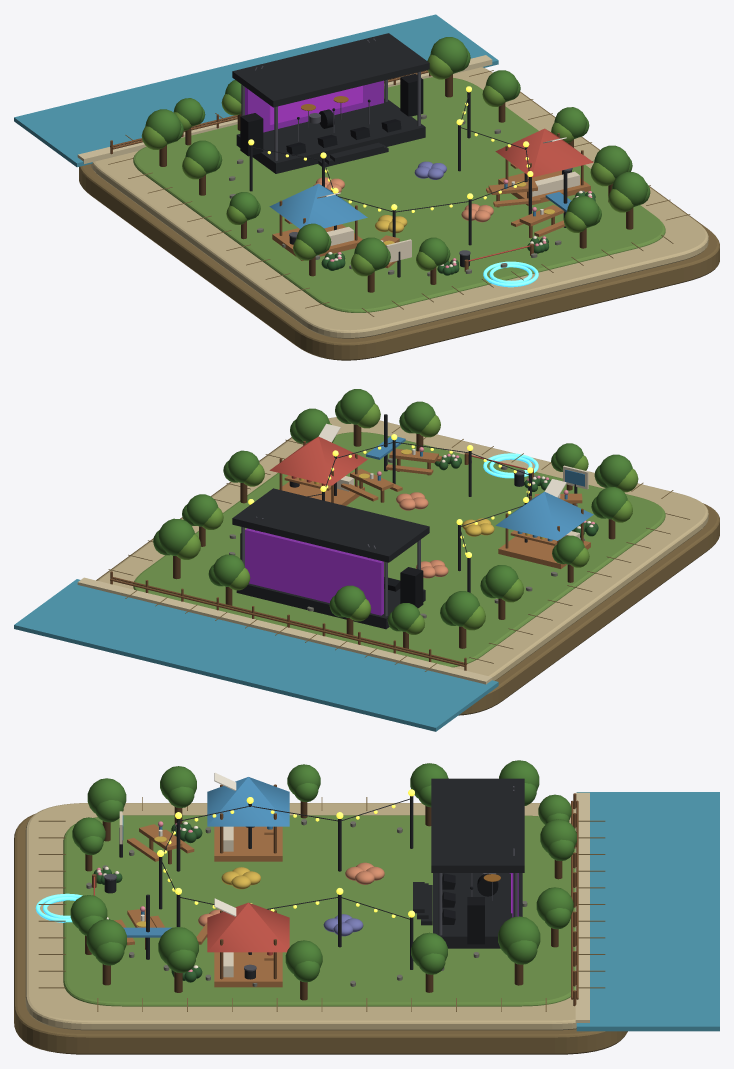
Rendered from festival-experience-map.glb.
3 views of the same model, one above another, from view 1: azimuth 30°, elevation 25°; view 2: azimuth 150°, elevation 25°; view 3: azimuth 270°, elevation 25° (orthographic). The views are drawn at different scales.
Parts seen in each view (by area): view 1: Festival_Lawn, Promenade, Island_Base, River, StageRoof, StageDeck, Red_Experience_Tent_Roof, Blue_Experience_Tent_Roof, StageBack, Stage_LED, River_Bank, Tree_4_CrownA (+17 smaller); view 2: Festival_Lawn, River, Promenade, StageRoof, StageBack, Island_Base, River_Bank, Blue_Experience_Tent_Roof, Red_Experience_Tent_Roof, StageDeck, Blue_Experience_Tent_Platform, Rail_-14.25 (+18 smaller); view 3: Festival_Lawn, River, Promenade, Island_Base, StageRoof, StageDeck, Red_Experience_Tent_Roof, Blue_Experience_Tent_Roof, River_Bank, Blue_Experience_Tent_Platform, Red_Experience_Tent_Platform, Tree_4_CrownA (+22 smaller).
Part boxes in pixels (x1,y1,x2,y2): Festival_Lawn: (133, 77, 665, 312); Promenade: (90, 67, 708, 338); Island_Base: (79, 91, 719, 360); River: (14, 14, 498, 167); StageRoof: (232, 33, 429, 107); StageDeck: (236, 99, 425, 173); Red_Experience_Tent_Roof: (495, 128, 593, 177); Blue_Experience_Tent_Roof: (269, 183, 367, 228); StageBack: (245, 80, 383, 132); Stage_LED: (269, 85, 362, 124); River_Bank: (77, 55, 492, 163); Tree_4_CrownA: (430, 37, 467, 73); Festival_Lawn: (133, 432, 665, 667); River: (14, 579, 498, 731); Promenade: (97, 417, 708, 680); StageRoof: (232, 488, 429, 562); StageBack: (245, 528, 383, 615); Island_Base: (96, 437, 719, 715); River_Bank: (77, 577, 492, 684); Blue_Experience_Tent_Roof: (495, 491, 593, 540); Red_Experience_Tent_Roof: (269, 436, 367, 485); StageDeck: (236, 580, 425, 629); Blue_Experience_Tent_Platform: (498, 536, 590, 568); Rail_-14.25: (110, 578, 464, 666); Festival_Lawn: (63, 815, 575, 1006); River: (576, 792, 719, 1031); Promenade: (25, 803, 576, 1030); Island_Base: (14, 813, 627, 1054); StageRoof: (431, 778, 524, 872); StageDeck: (433, 873, 522, 948); Red_Experience_Tent_Roof: (207, 902, 289, 952); Blue_Experience_Tent_Roof: (207, 777, 289, 826); River_Bank: (575, 792, 589, 1025); Blue_Experience_Tent_Platform: (214, 826, 282, 861); Red_Experience_Tent_Platform: (214, 952, 282, 987); Tree_4_CrownA: (498, 916, 540, 954).
Size of the model in its own units: 31 by 7.49 by 39.38.
